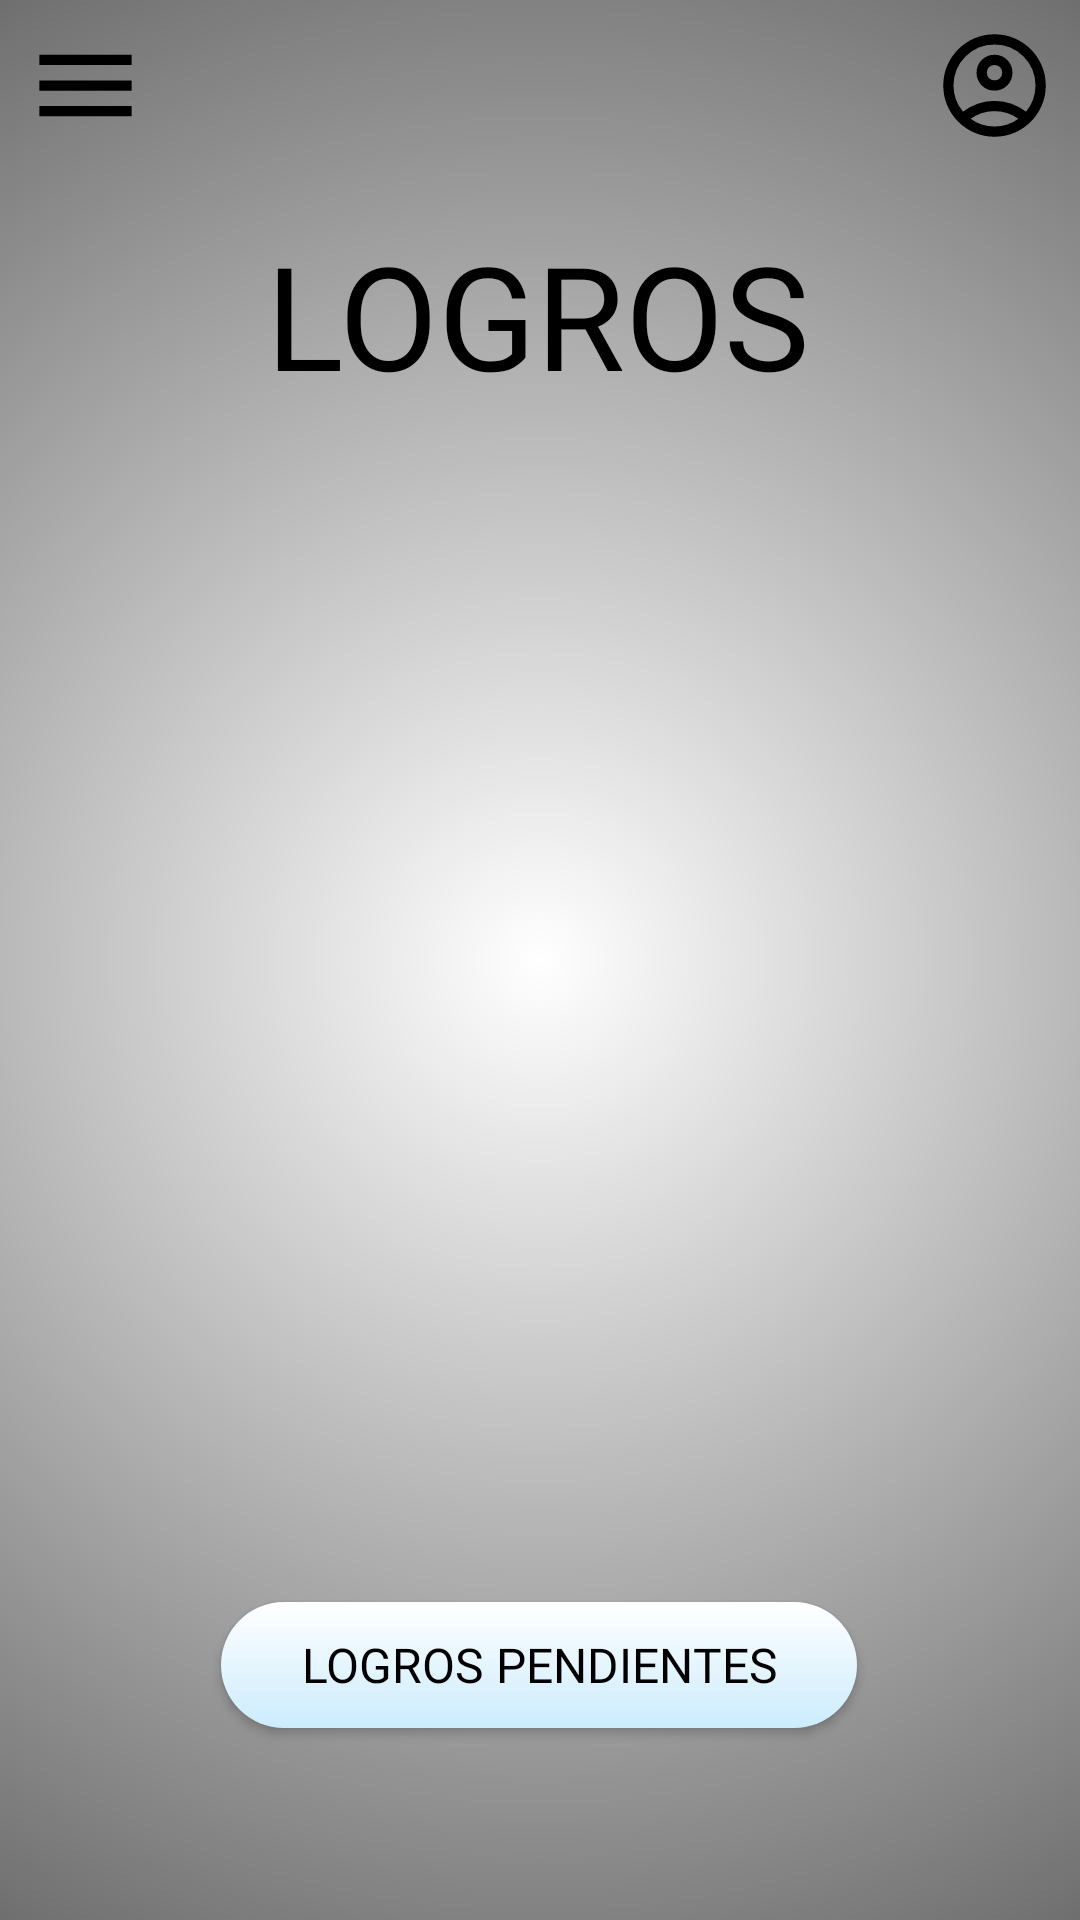

Icon bounding boxes for this 1080 × 1920 phone screenshot, format (x1, y1, x2, y2):
account: (943, 34, 1046, 137)
menu: (39, 54, 132, 117)
